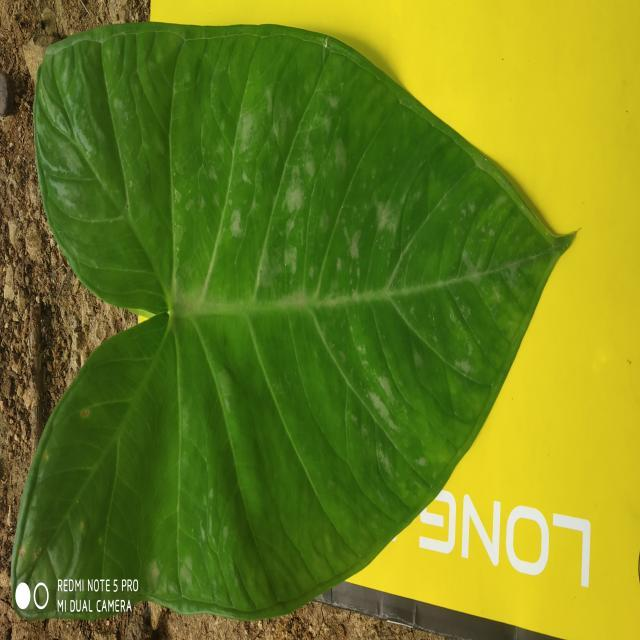leaf: (10, 20, 580, 622)
